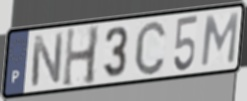3: (101, 25, 131, 79)
5: (172, 14, 199, 73)
C: (132, 18, 168, 78)
H: (60, 24, 101, 90)
M: (199, 11, 241, 69)
N: (29, 31, 65, 89)
